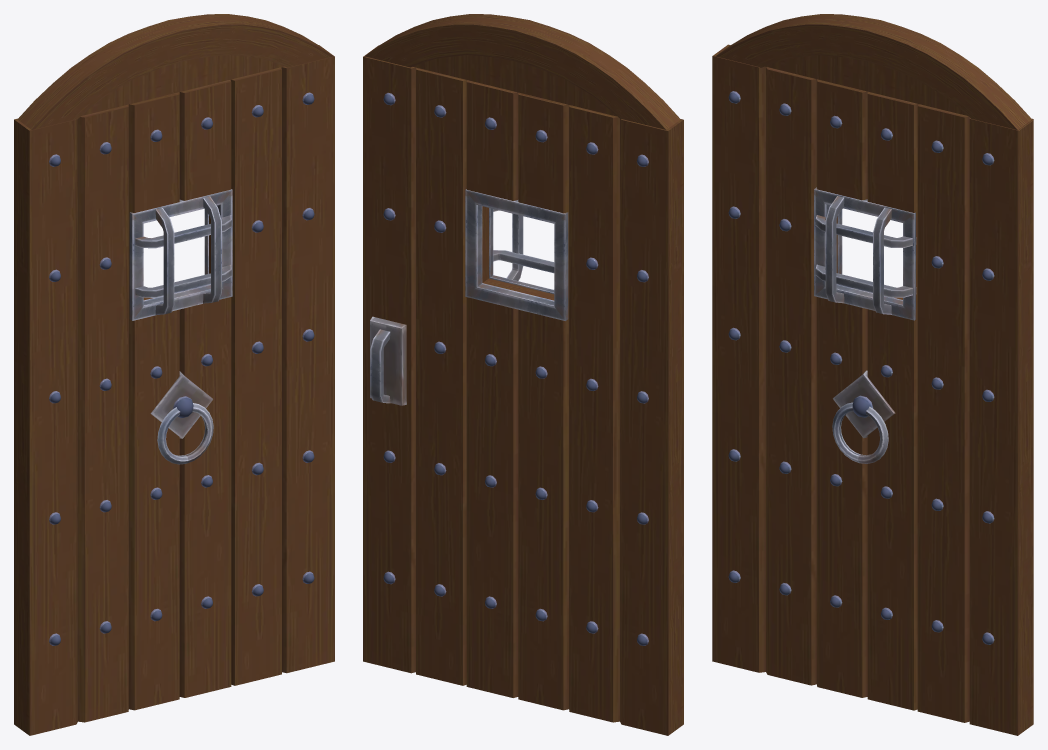
File: door_2_round.glb
3 renders of one model, left to right at view 1: azimuth 30°, elevation 25°; view 2: azimuth 150°, elevation 25°; view 3: azimuth 330°, elevation 25°, orthographic.
Size of the model in its own units: 1.12 by 2.33 by 0.2608.
Materials: 2 (2 with a texture image).
